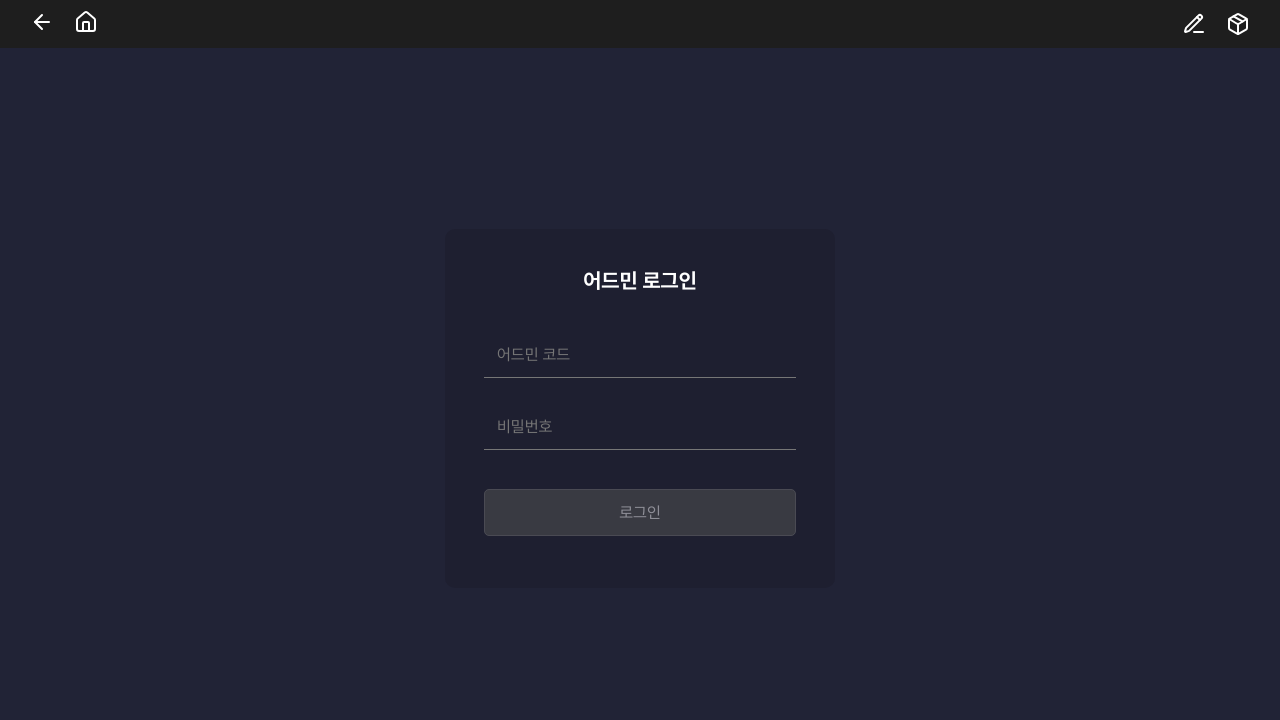
어드민 주문 내역 페이지 테스트 › 완료 버튼을 누르면 상태가 "SHIPPING"으로 변경된다
Step 1. Type "Admin001" into the field with placeholder "어드민 코드" → x=640, y=355, box [484,332,796,378]
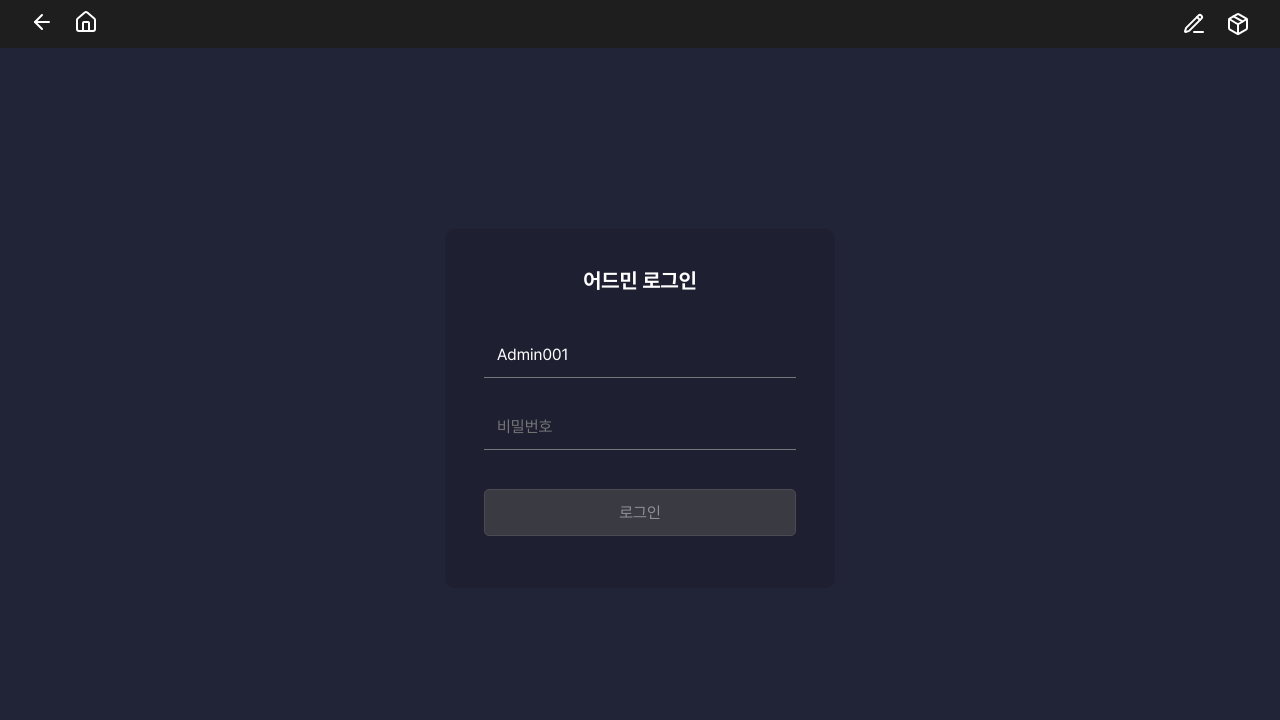
Step 2. Type "admin1" into the password field with placeholder "비밀번호" → x=640, y=427, box [484,404,796,450]
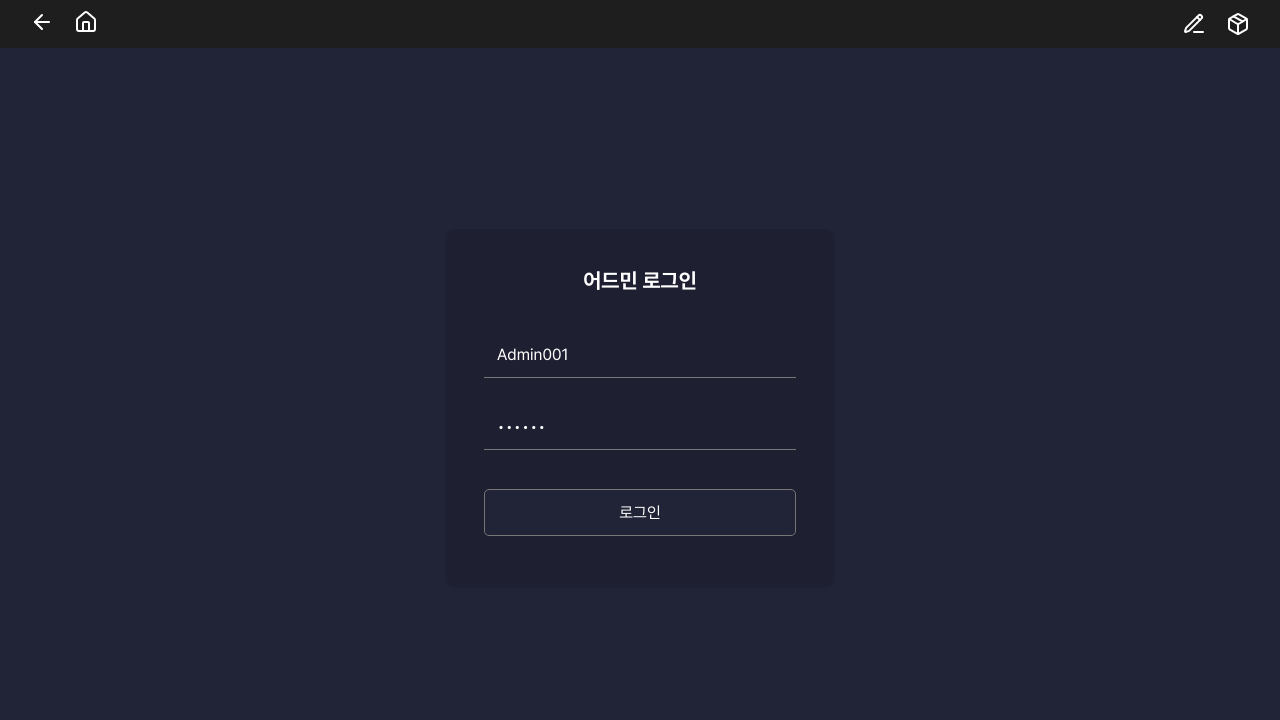
Step 3. Click the submit button → x=640, y=513, box [484,489,796,536]
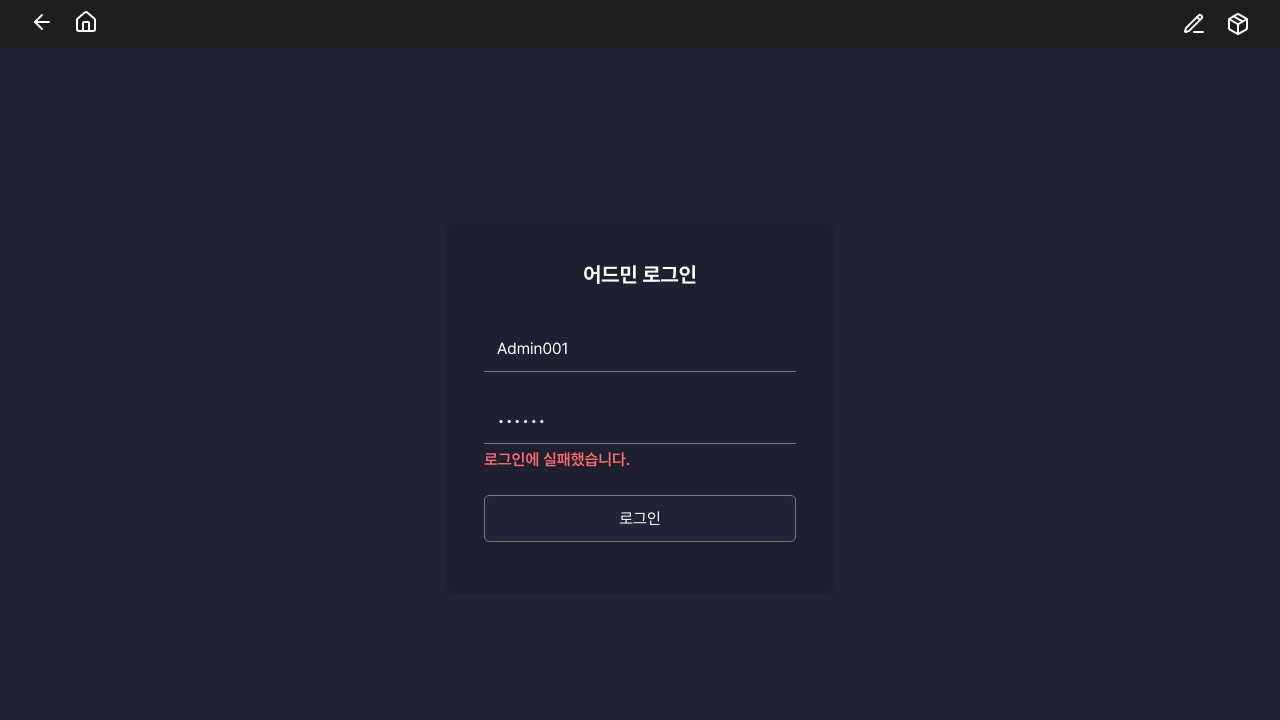
Step 4. Open "/adminOrderHistory"
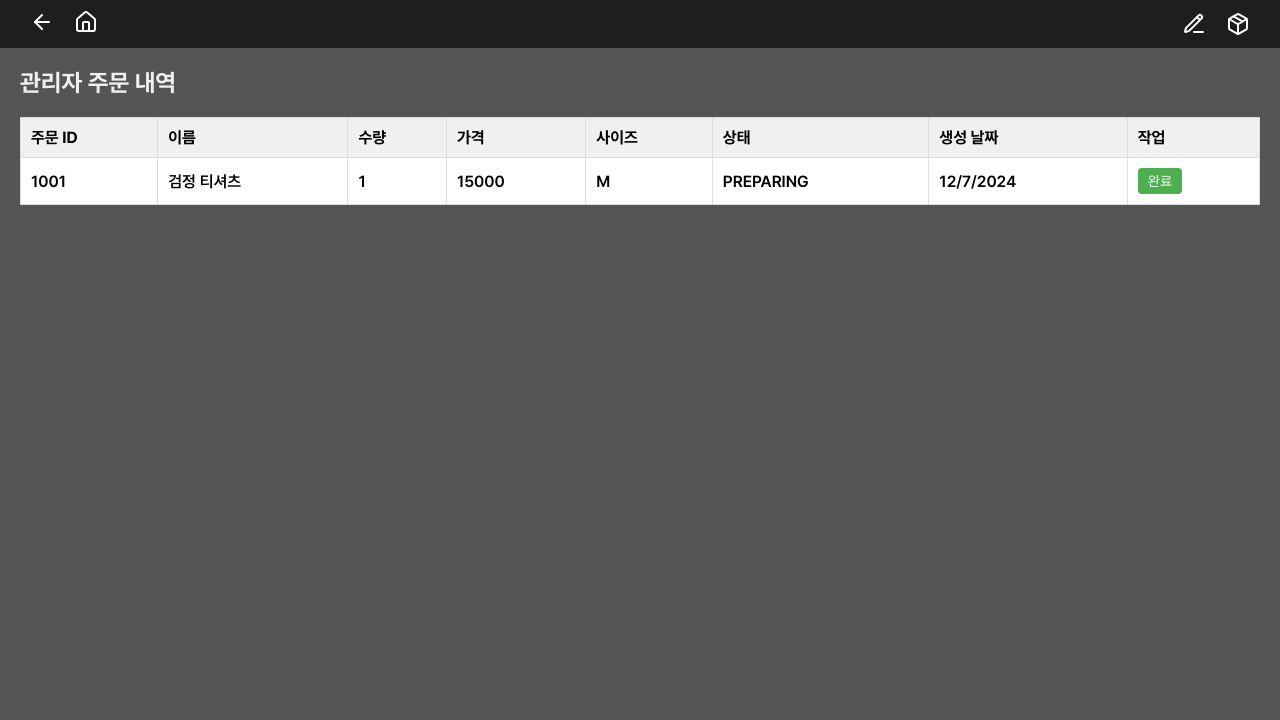
Step 5. Click the button "완료" → x=1160, y=181, box [1138,168,1182,194]
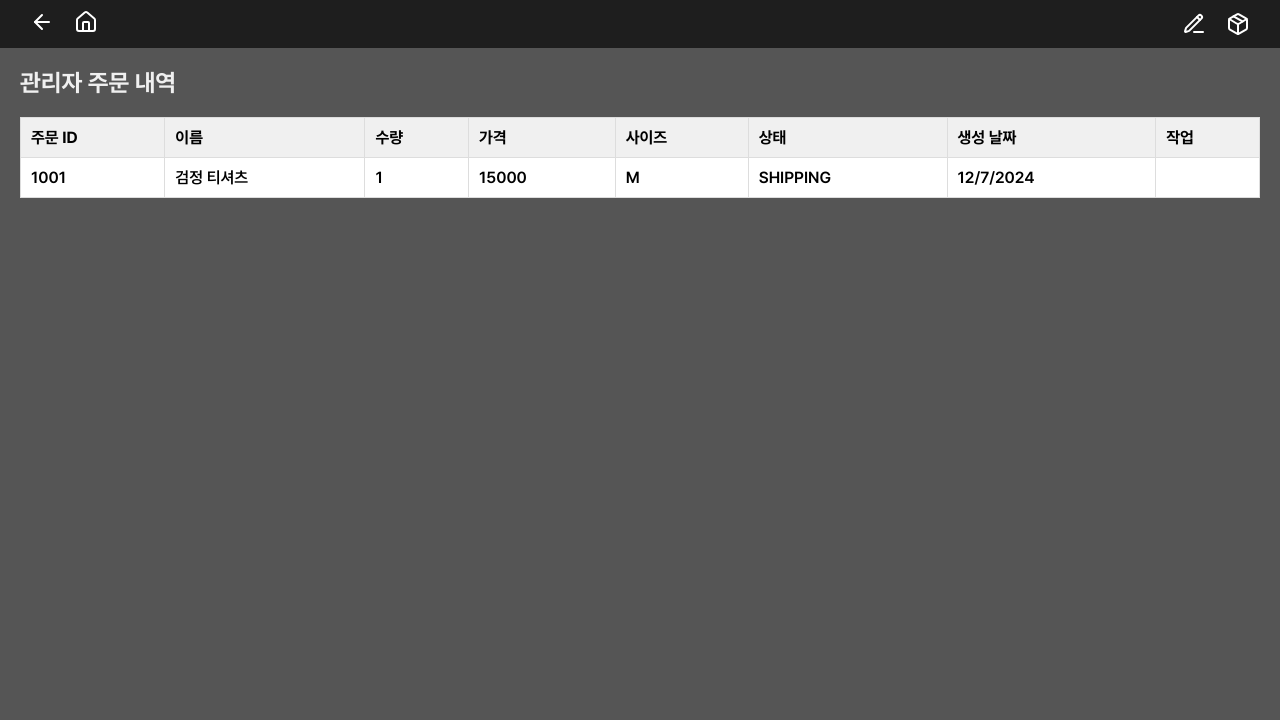
Expected: the text "SHIPPING" is shown, [748,158,947,198]
